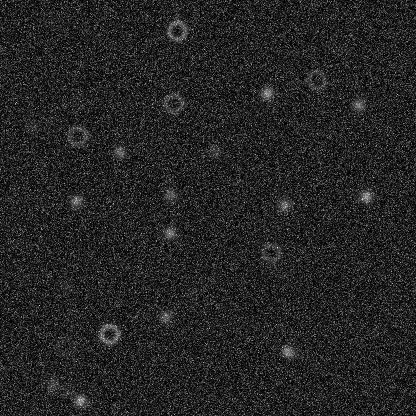Ring: (258, 240, 282, 264), (65, 123, 89, 147), (161, 90, 185, 114), (97, 321, 121, 345), (53, 334, 77, 358), (165, 18, 189, 42), (304, 67, 328, 91)
Spot: (276, 197, 292, 213), (111, 143, 127, 159), (68, 193, 84, 209), (207, 143, 223, 159), (59, 382, 75, 398), (333, 39, 349, 55), (44, 376, 60, 392), (71, 392, 87, 408), (358, 188, 374, 204), (24, 118, 40, 134), (57, 279, 73, 295), (161, 224, 177, 240), (258, 85, 274, 101), (181, 285, 197, 301), (350, 96, 366, 112), (43, 113, 59, 129), (279, 343, 295, 359), (157, 309, 173, 325), (162, 186, 178, 202)
